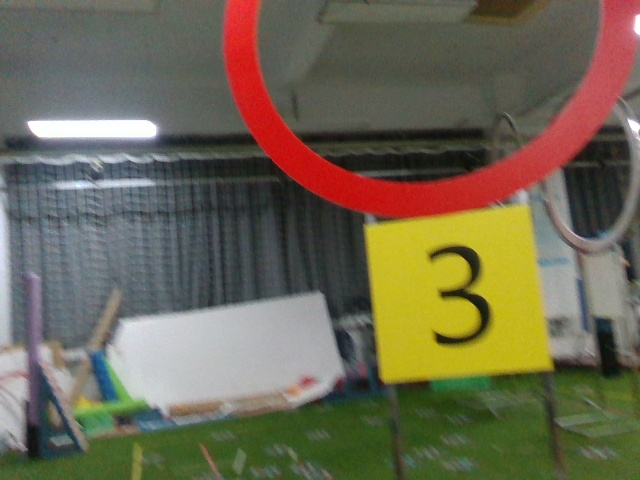target: (372, 217, 537, 364)
